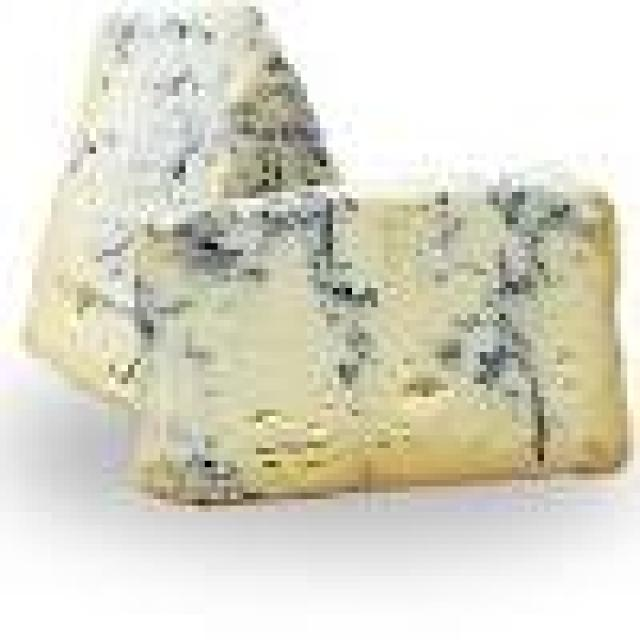Cheese: (128, 169, 626, 512), (20, 11, 359, 395)
